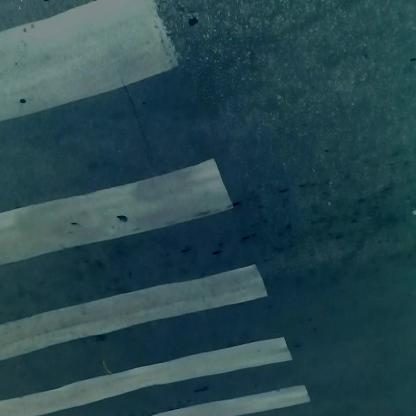crosswalk: (1, 2, 315, 407)
